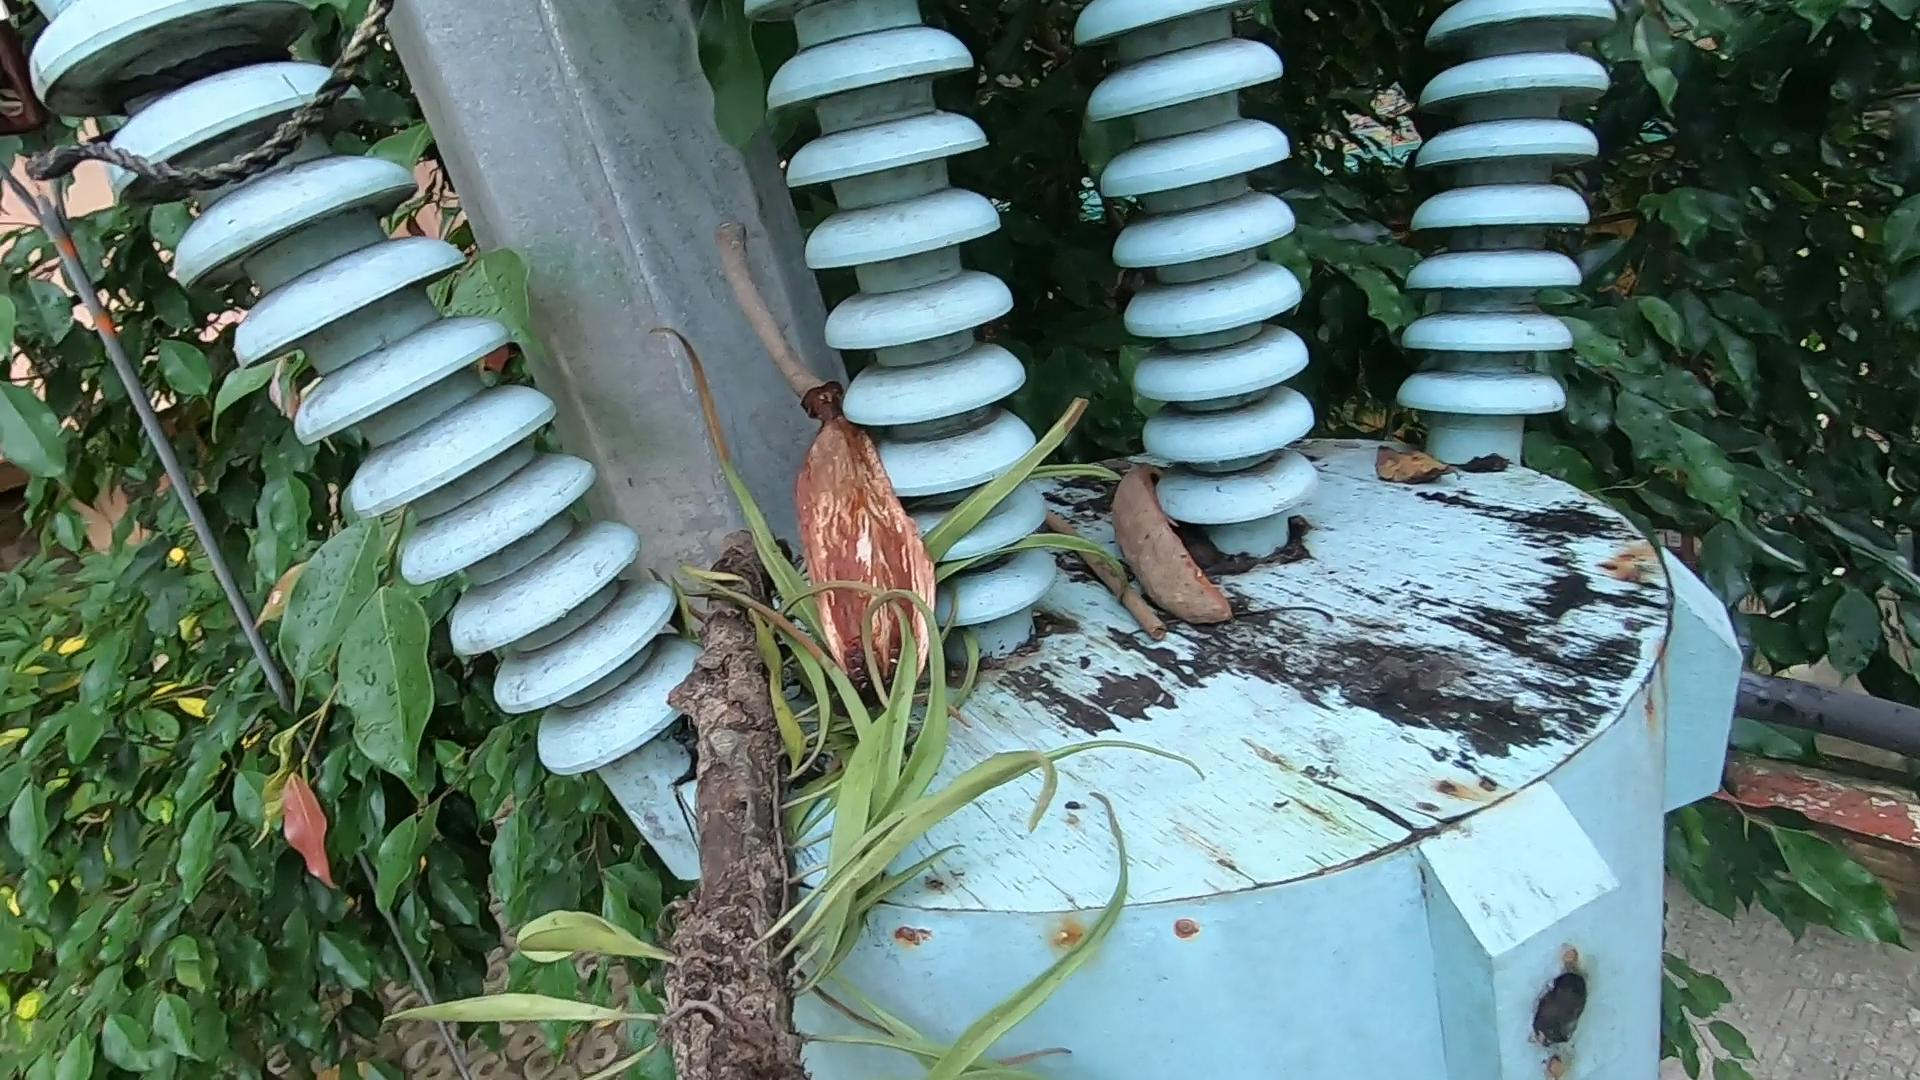branch with leaves: (626, 509, 1077, 1080)
leaf: (1354, 438, 1501, 546)
mahogany fruit: (629, 425, 963, 646), (1101, 454, 1273, 651)
tree branch: (702, 200, 828, 400), (1033, 491, 1160, 642)
